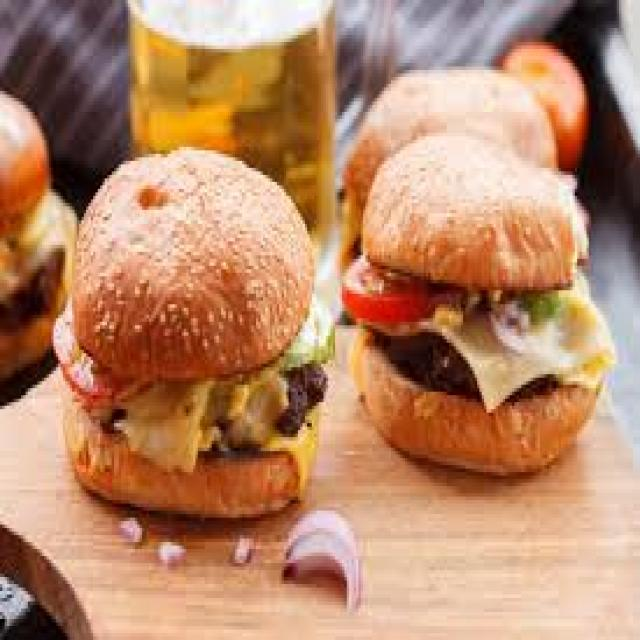Burger: (74, 158, 332, 532), (358, 99, 608, 452)
